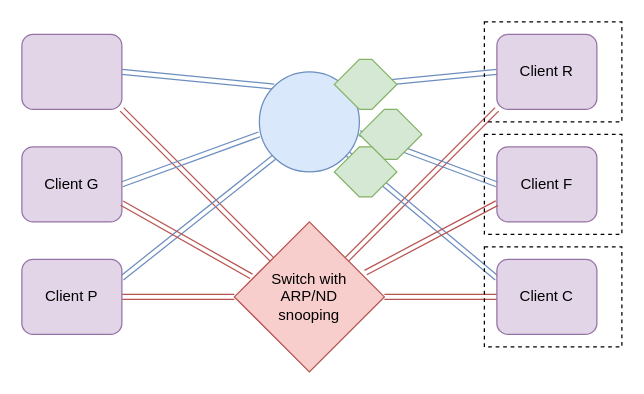
Image size: 644x394. Some labels were removed from this diagram. The box of each missing label's shape, as (x1, y1, x2, y2) in pixels:
Client B: (21, 33, 122, 109)
Combined route server: (258, 71, 359, 172)
